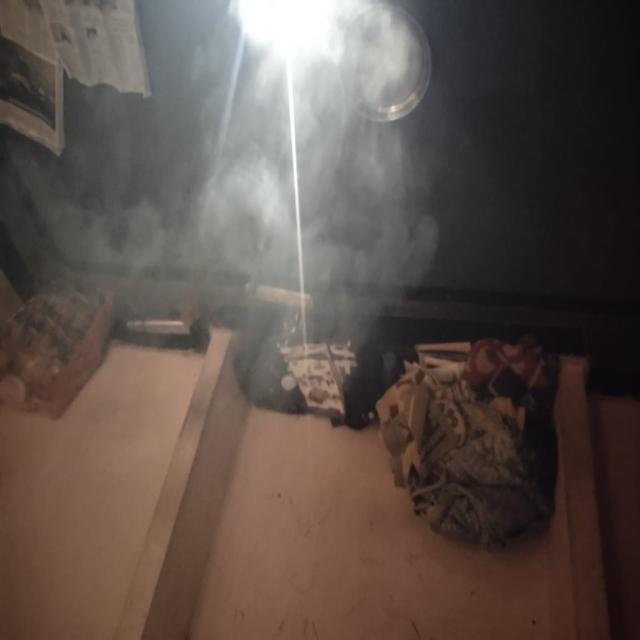smoke: (187, 0, 403, 219)
